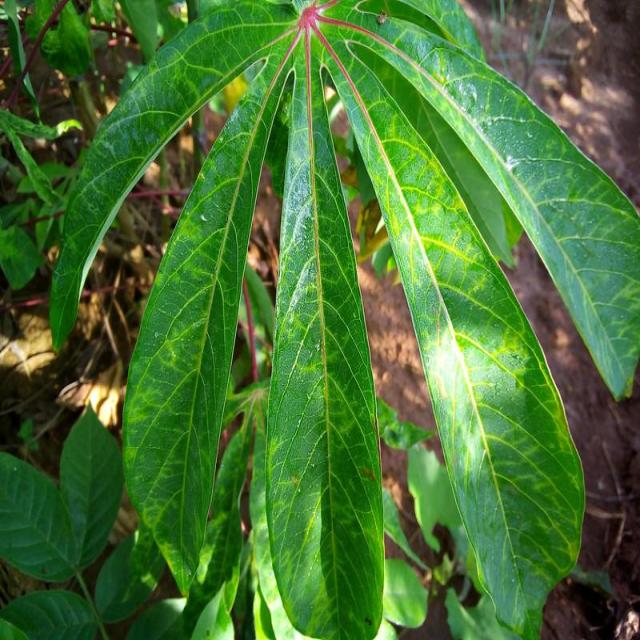cassava leaf: (49, 0, 639, 638), (264, 24, 386, 638)
